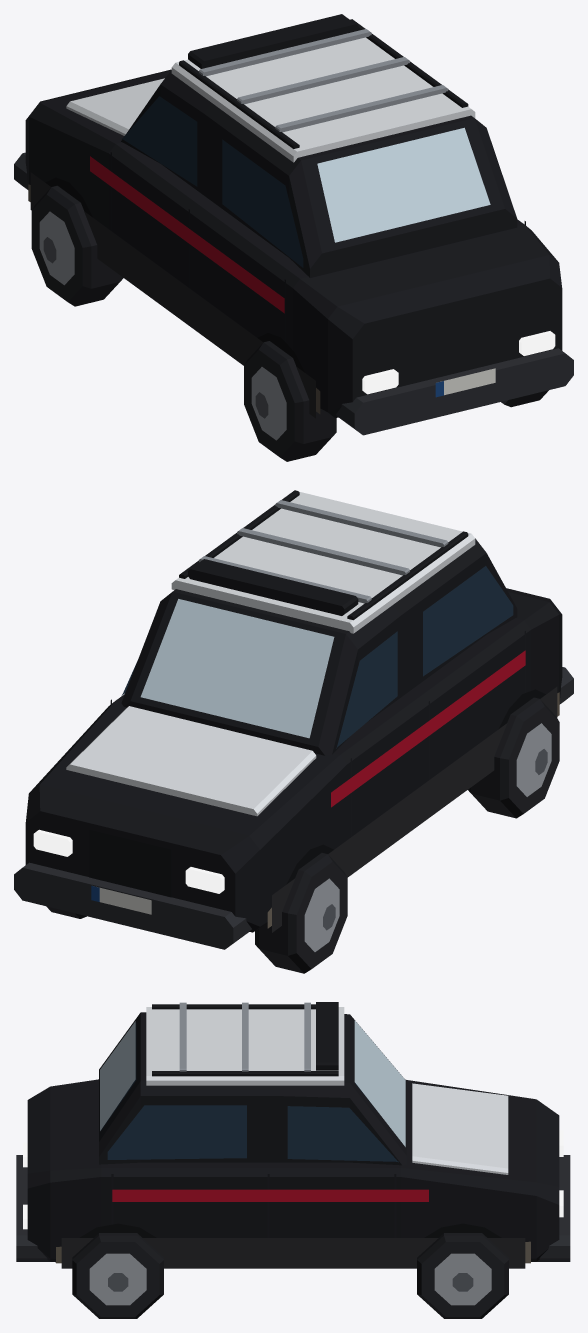
File: ncc_suv_lo.glb
3 renders of one model, top to bottom at view 1: azimuth 30°, elevation 25°; view 2: azimuth 150°, elevation 25°; view 3: azimuth 270°, elevation 25°, orthographic. The views are drawn at different scales.
Visible parts, largest first — view 1: body.001, wheel_RL.001, wheel_FL.001; view 2: body.001, wheel_FL.001, wheel_RL.001; view 3: body.001, wheel_FR.001, wheel_RR.001.
Boxes of the visible parts, x1=… form: body.001: x1=14, y1=14, x2=573, y2=435; wheel_RL.001: x1=244, y1=341, x2=336, y2=461; wheel_FL.001: x1=31, y1=185, x2=123, y2=306; body.001: x1=14, y1=490, x2=573, y2=949; wheel_FL.001: x1=255, y1=853, x2=347, y2=973; wheel_RL.001: x1=468, y1=697, x2=559, y2=818; body.001: x1=16, y1=1002, x2=570, y2=1268; wheel_FR.001: x1=417, y1=1233, x2=508, y2=1318; wheel_RR.001: x1=72, y1=1233, x2=163, y2=1318.
Bounding box in the file's own units: 2.32 × 2.31 × 4.95.
